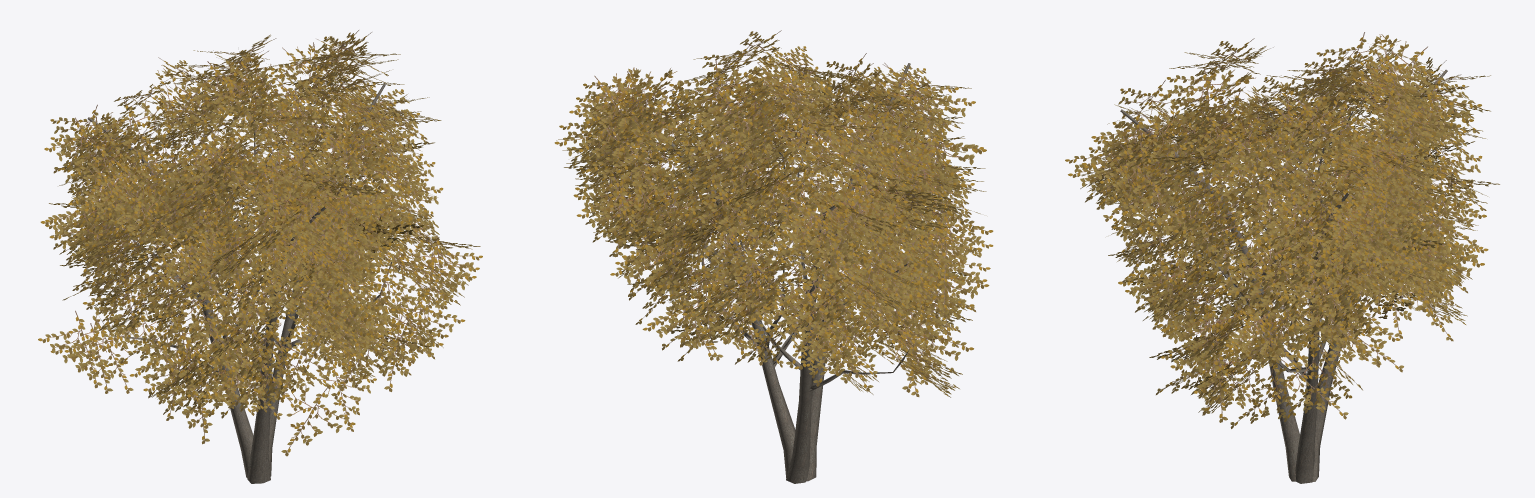
Rendered from Aralia_Elata_Autumn_Adult.glb.
3 renders of one model, left to right at view 1: azimuth 30°, elevation 25°; view 2: azimuth 150°, elevation 25°; view 3: azimuth 270°, elevation 25°, orthographic. The views are drawn at different scales.
Visible parts, largest first — view 1: Aralia_Elata_Autumn_Adult__LOD3; view 2: Aralia_Elata_Autumn_Adult__LOD3; view 3: Aralia_Elata_Autumn_Adult__LOD3.
Boxes of the visible parts, x1,y1,x2,y2 form: Aralia_Elata_Autumn_Adult__LOD3: (38,30,482,483); Aralia_Elata_Autumn_Adult__LOD3: (554,30,993,483); Aralia_Elata_Autumn_Adult__LOD3: (1065,32,1499,483).
Bounding box in the file's own units: 7.43 × 7 × 6.9.
Materials: 3 (3 with a texture image).
